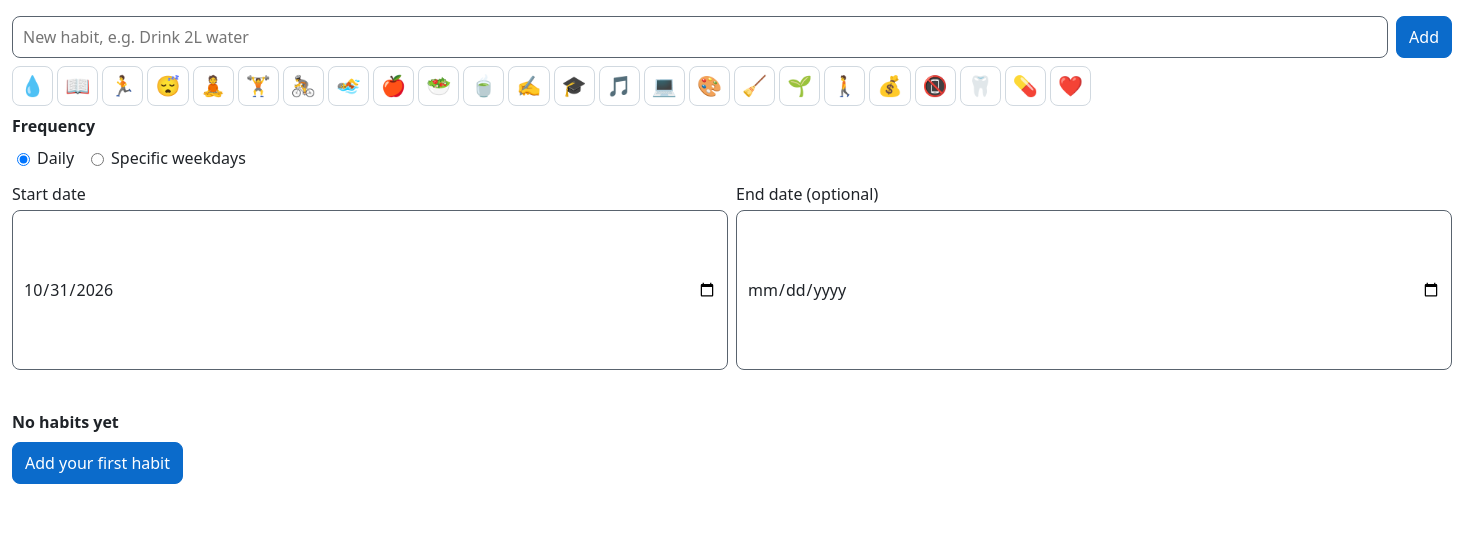
Test: HabitList › AC15 (#1): a failed save shows the error and keeps the change for the session
Type "Read" into the field named "New habit name" at (700, 37), box left=12, top=16, right=1388, bottom=58
Then press Enter
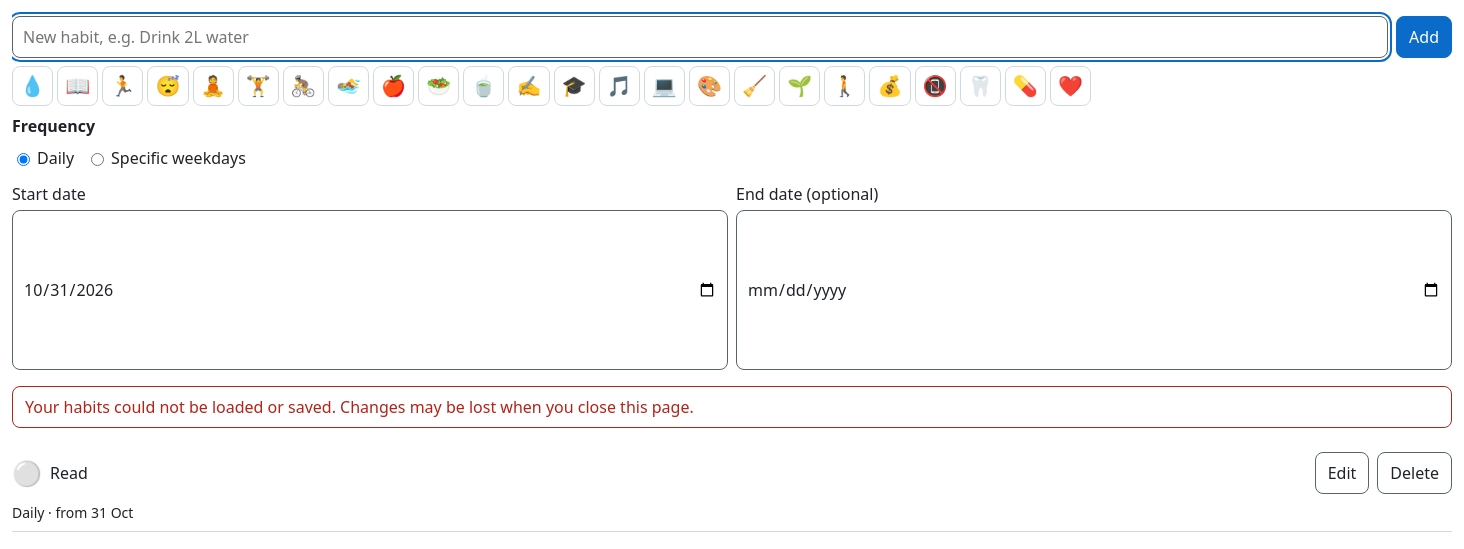
Result: the message is shown at left=12, top=386, right=1452, bottom=428
Result: the list item "Read" is shown at left=12, top=444, right=1452, bottom=532
